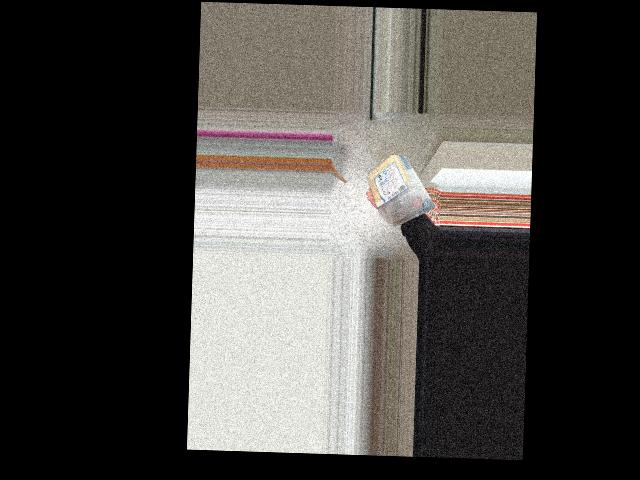cheese: (365, 148, 431, 226)
